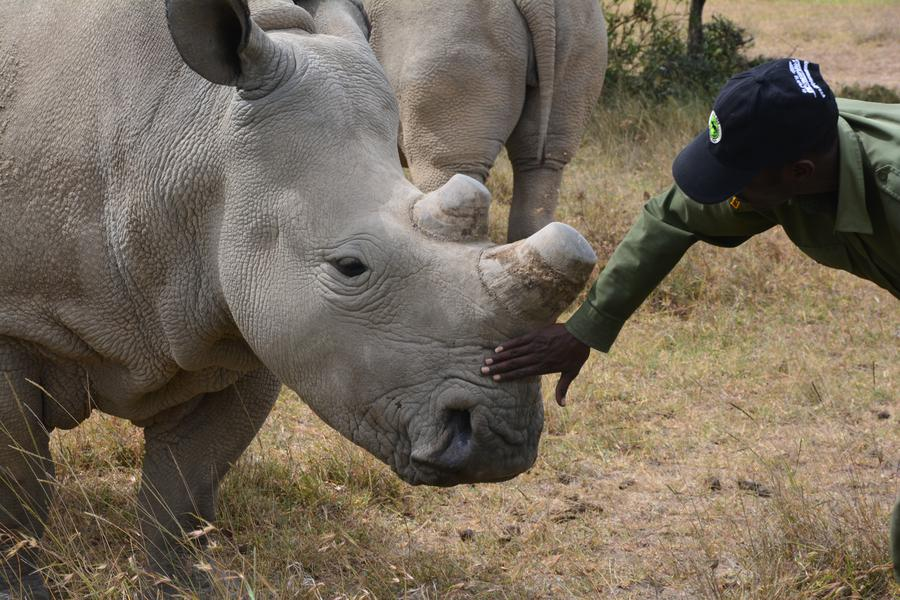rhino: (3, 28, 523, 561), (397, 3, 610, 214)
